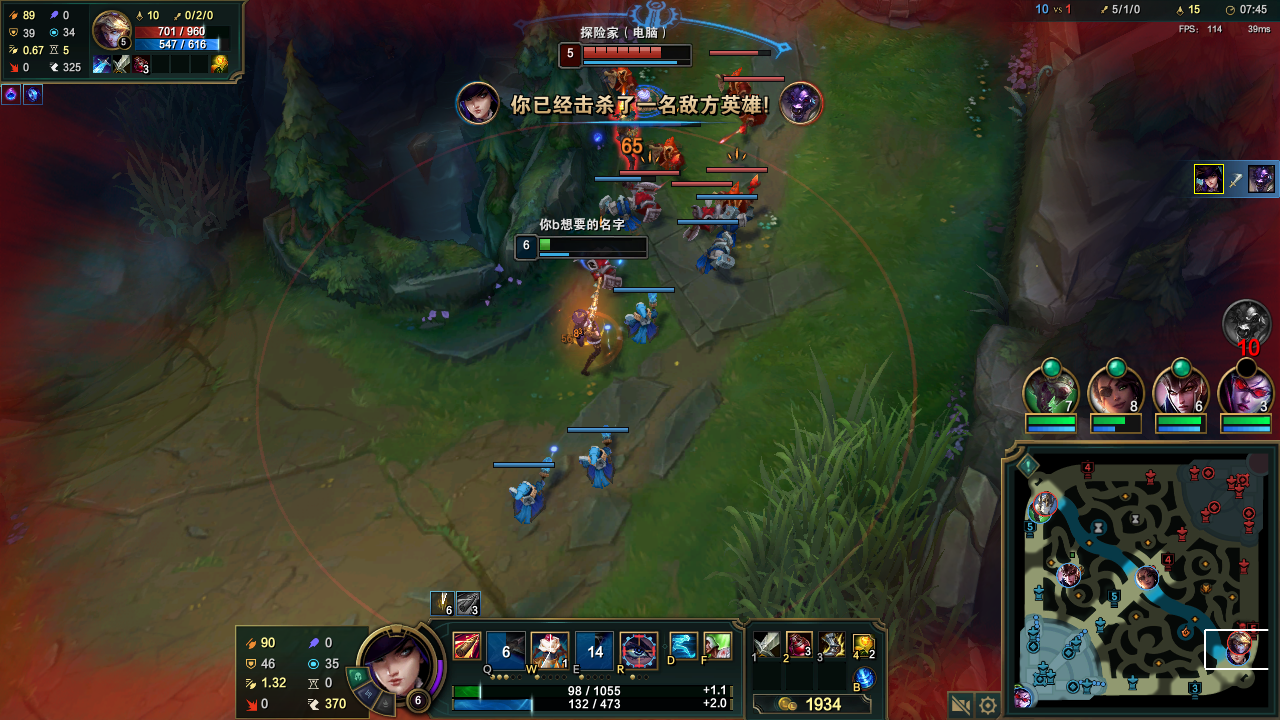DFXB: (655, 139, 690, 172), (638, 186, 667, 224), (732, 182, 757, 215), (736, 91, 764, 118), (697, 200, 714, 224), (725, 67, 744, 88)
DFYX: (584, 45, 689, 58)
WFXB: (581, 440, 623, 492), (607, 191, 641, 229), (699, 241, 738, 272), (512, 480, 545, 514), (718, 203, 752, 235), (631, 301, 657, 341)
